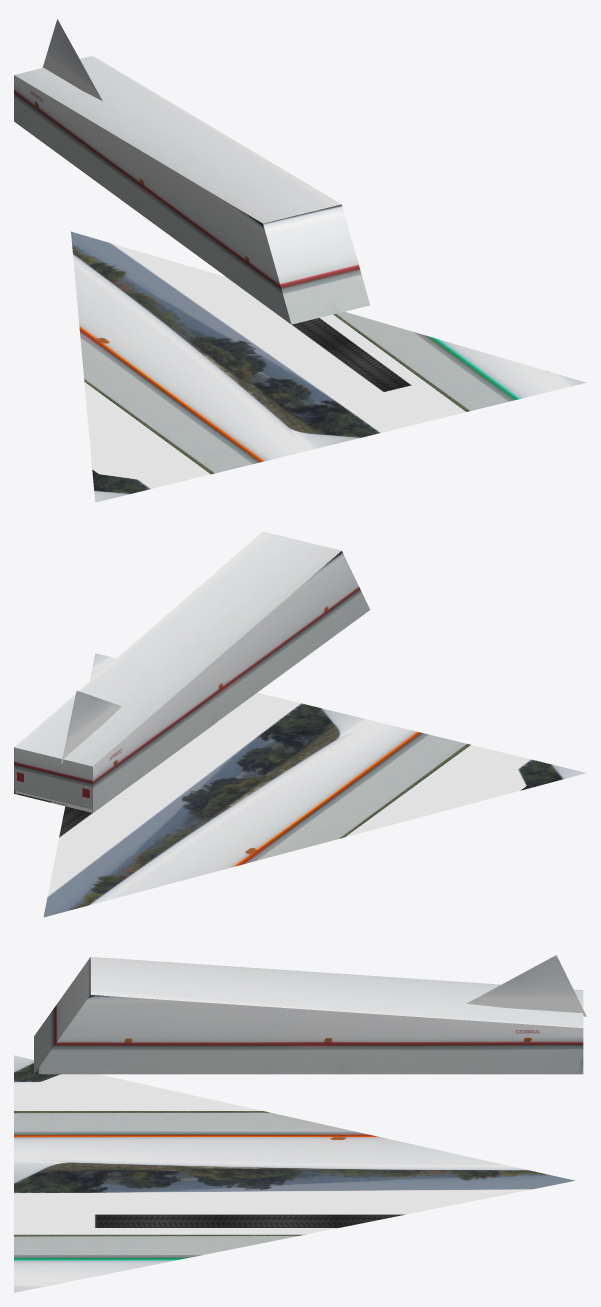
The model's file is glider-trailer-red-9m-cbj_LOD04.gltf.
3 views of the same model, one above another, from view 1: azimuth 30°, elevation 25°; view 2: azimuth 150°, elevation 25°; view 3: azimuth 270°, elevation 25° (orthographic).
Visible parts, largest first — view 1: trailer04; view 2: trailer04; view 3: trailer04.
Part boxes in pixels (x1,y1,x2,y2): trailer04: [14, 19, 586, 502]; trailer04: [14, 531, 586, 917]; trailer04: [14, 955, 586, 1292].
Bounding box in the file's own units: 8.5 × 3.73 × 8.67.
